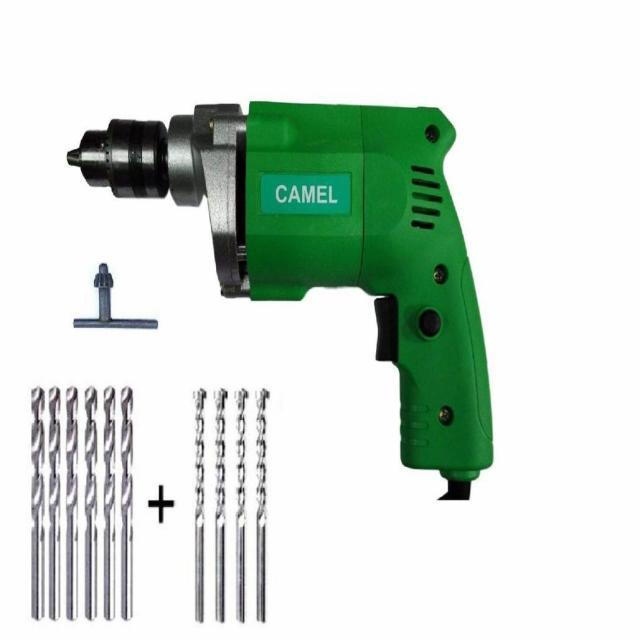drill: (67, 100, 494, 500)
